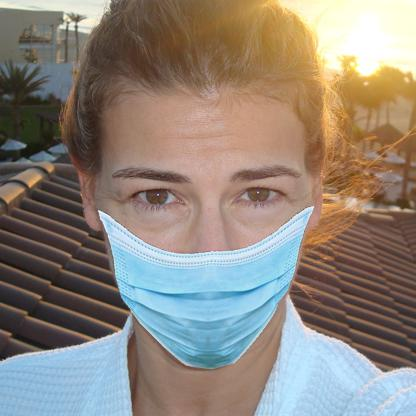mask: (93, 208, 314, 370)
